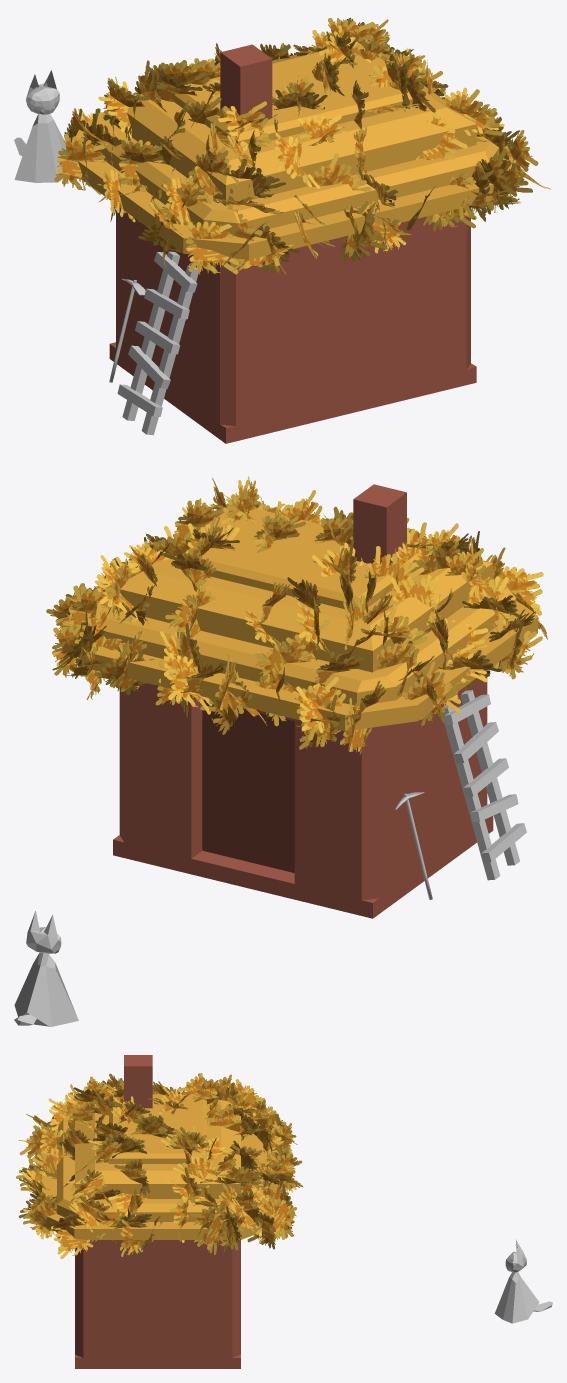
File: house2.fbx
3 renders of one model, top to bottom at view 1: azimuth 30°, elevation 25°; view 2: azimuth 150°, elevation 25°; view 3: azimuth 270°, elevation 25°, orthographic. The views are drawn at different scales.
Visible parts, largest first — view 1: House, roof, ladder, Cube.001, chimney, roof|straw|Dupli|67, roof|straw|Dupli|63, roof|straw|Dupli|10, roof|straw|Dupli|5, roof|straw|Dupli|99, roof|straw|Dupli|180, roof|straw|Dupli|115 (+25 smaller); view 2: House, roof, ladder, Cube.001, chimney, roof|straw|Dupli|46, roof|straw|Dupli|173, roof|straw|Dupli|66, roof|straw|Dupli|19, roof|straw|Dupli|43, roof|straw|Dupli|172, roof|straw|Dupli|60 (+18 smaller); view 3: House, roof, Cube.001, chimney, roof|straw|Dupli|164, roof|straw|Dupli|171, roof|straw|Dupli|198, roof|straw|Dupli|162, roof|straw|Dupli|23, roof|straw|Dupli|125, roof|straw|Dupli|124, roof|straw|Dupli|120 (+15 smaller).
Boxes of the visible parts, x1,y1,x2,y2 form: House: (109, 207, 476, 443); roof: (67, 41, 516, 259); ladder: (117, 251, 198, 435); Cube.001: (14, 70, 67, 182); chimney: (220, 44, 272, 119); roof|straw|Dupli|67: (186, 221, 238, 274); roof|straw|Dupli|63: (54, 133, 108, 194); roof|straw|Dupli|10: (274, 132, 320, 188); roof|straw|Dupli|5: (305, 153, 371, 202); roof|straw|Dupli|99: (445, 89, 502, 141); roof|straw|Dupli|180: (473, 154, 516, 215); roof|straw|Dupli|115: (415, 112, 467, 160); House: (113, 676, 493, 918); roof: (69, 504, 537, 731); ladder: (443, 690, 526, 880); Cube.001: (14, 911, 78, 1026); chimney: (353, 484, 406, 565); roof|straw|Dupli|46: (254, 637, 310, 684); roof|straw|Dupli|173: (166, 653, 212, 714); roof|straw|Dupli|66: (401, 661, 457, 725); roof|straw|Dupli|19: (390, 575, 440, 625); roof|straw|Dupli|43: (360, 546, 424, 591); roof|straw|Dupli|172: (94, 644, 155, 694); roof|straw|Dupli|60: (499, 566, 543, 621); House: (75, 1240, 240, 1368); roof: (42, 1094, 279, 1239); Cube.001: (494, 1239, 552, 1323); chimney: (124, 1055, 152, 1108); roof|straw|Dupli|164: (197, 1209, 227, 1254); roof|straw|Dupli|171: (51, 1221, 93, 1258); roof|straw|Dupli|198: (266, 1194, 296, 1239); roof|straw|Dupli|162: (23, 1196, 57, 1238); roof|straw|Dupli|23: (204, 1105, 247, 1141); roof|straw|Dupli|125: (173, 1150, 221, 1190); roof|straw|Dupli|124: (114, 1159, 150, 1196); roof|straw|Dupli|120: (225, 1165, 262, 1194).
Bounding box in the file's own units: 7078 × 5910 × 11867.
